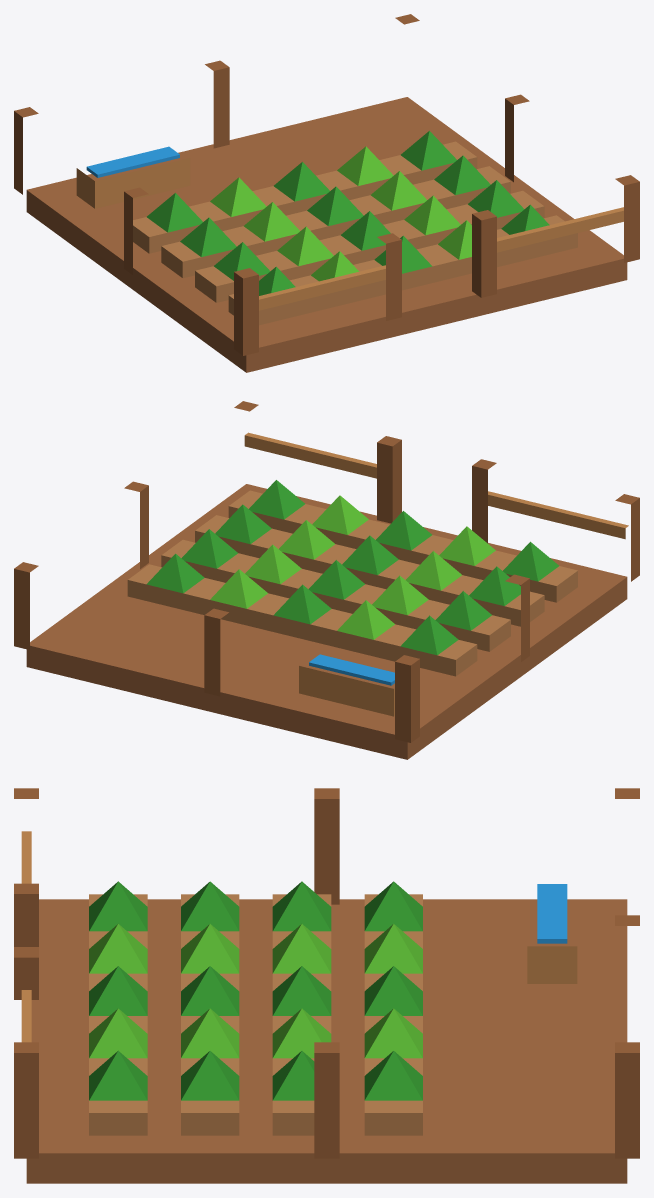
File: field_t2_v2.glb
The picture shows the model from 3 angles, top to bottom: view 1: azimuth 30°, elevation 25°; view 2: azimuth 150°, elevation 25°; view 3: azimuth 270°, elevation 25°; orthographic projection. The views are drawn at different scales.
Parts seen in each view (by area): view 1: field_t2_v2; view 2: field_t2_v2; view 3: field_t2_v2.
Boxes of the visible parts, box(x1,y1,x2,y2) form: field_t2_v2: box(14, 14, 639, 372); field_t2_v2: box(14, 401, 639, 759); field_t2_v2: box(14, 788, 639, 1183).
Bounding box in the file's own units: 0.75 × 0.18 × 0.75.
Materials: 1 (1 with a texture image).
